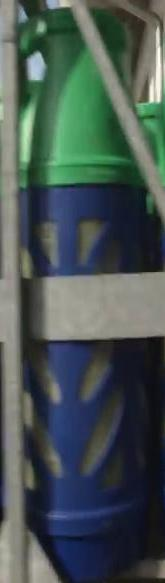cylinder: (1, 1, 165, 583)
